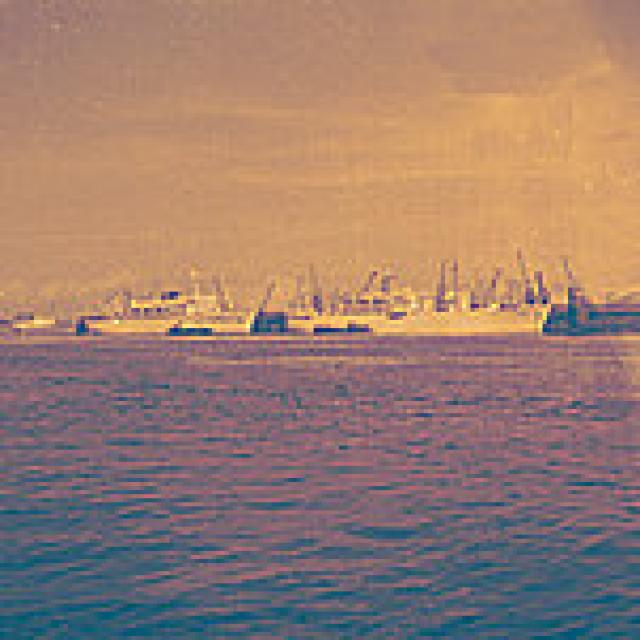Cruise: (360, 284, 547, 340), (72, 280, 259, 332)
